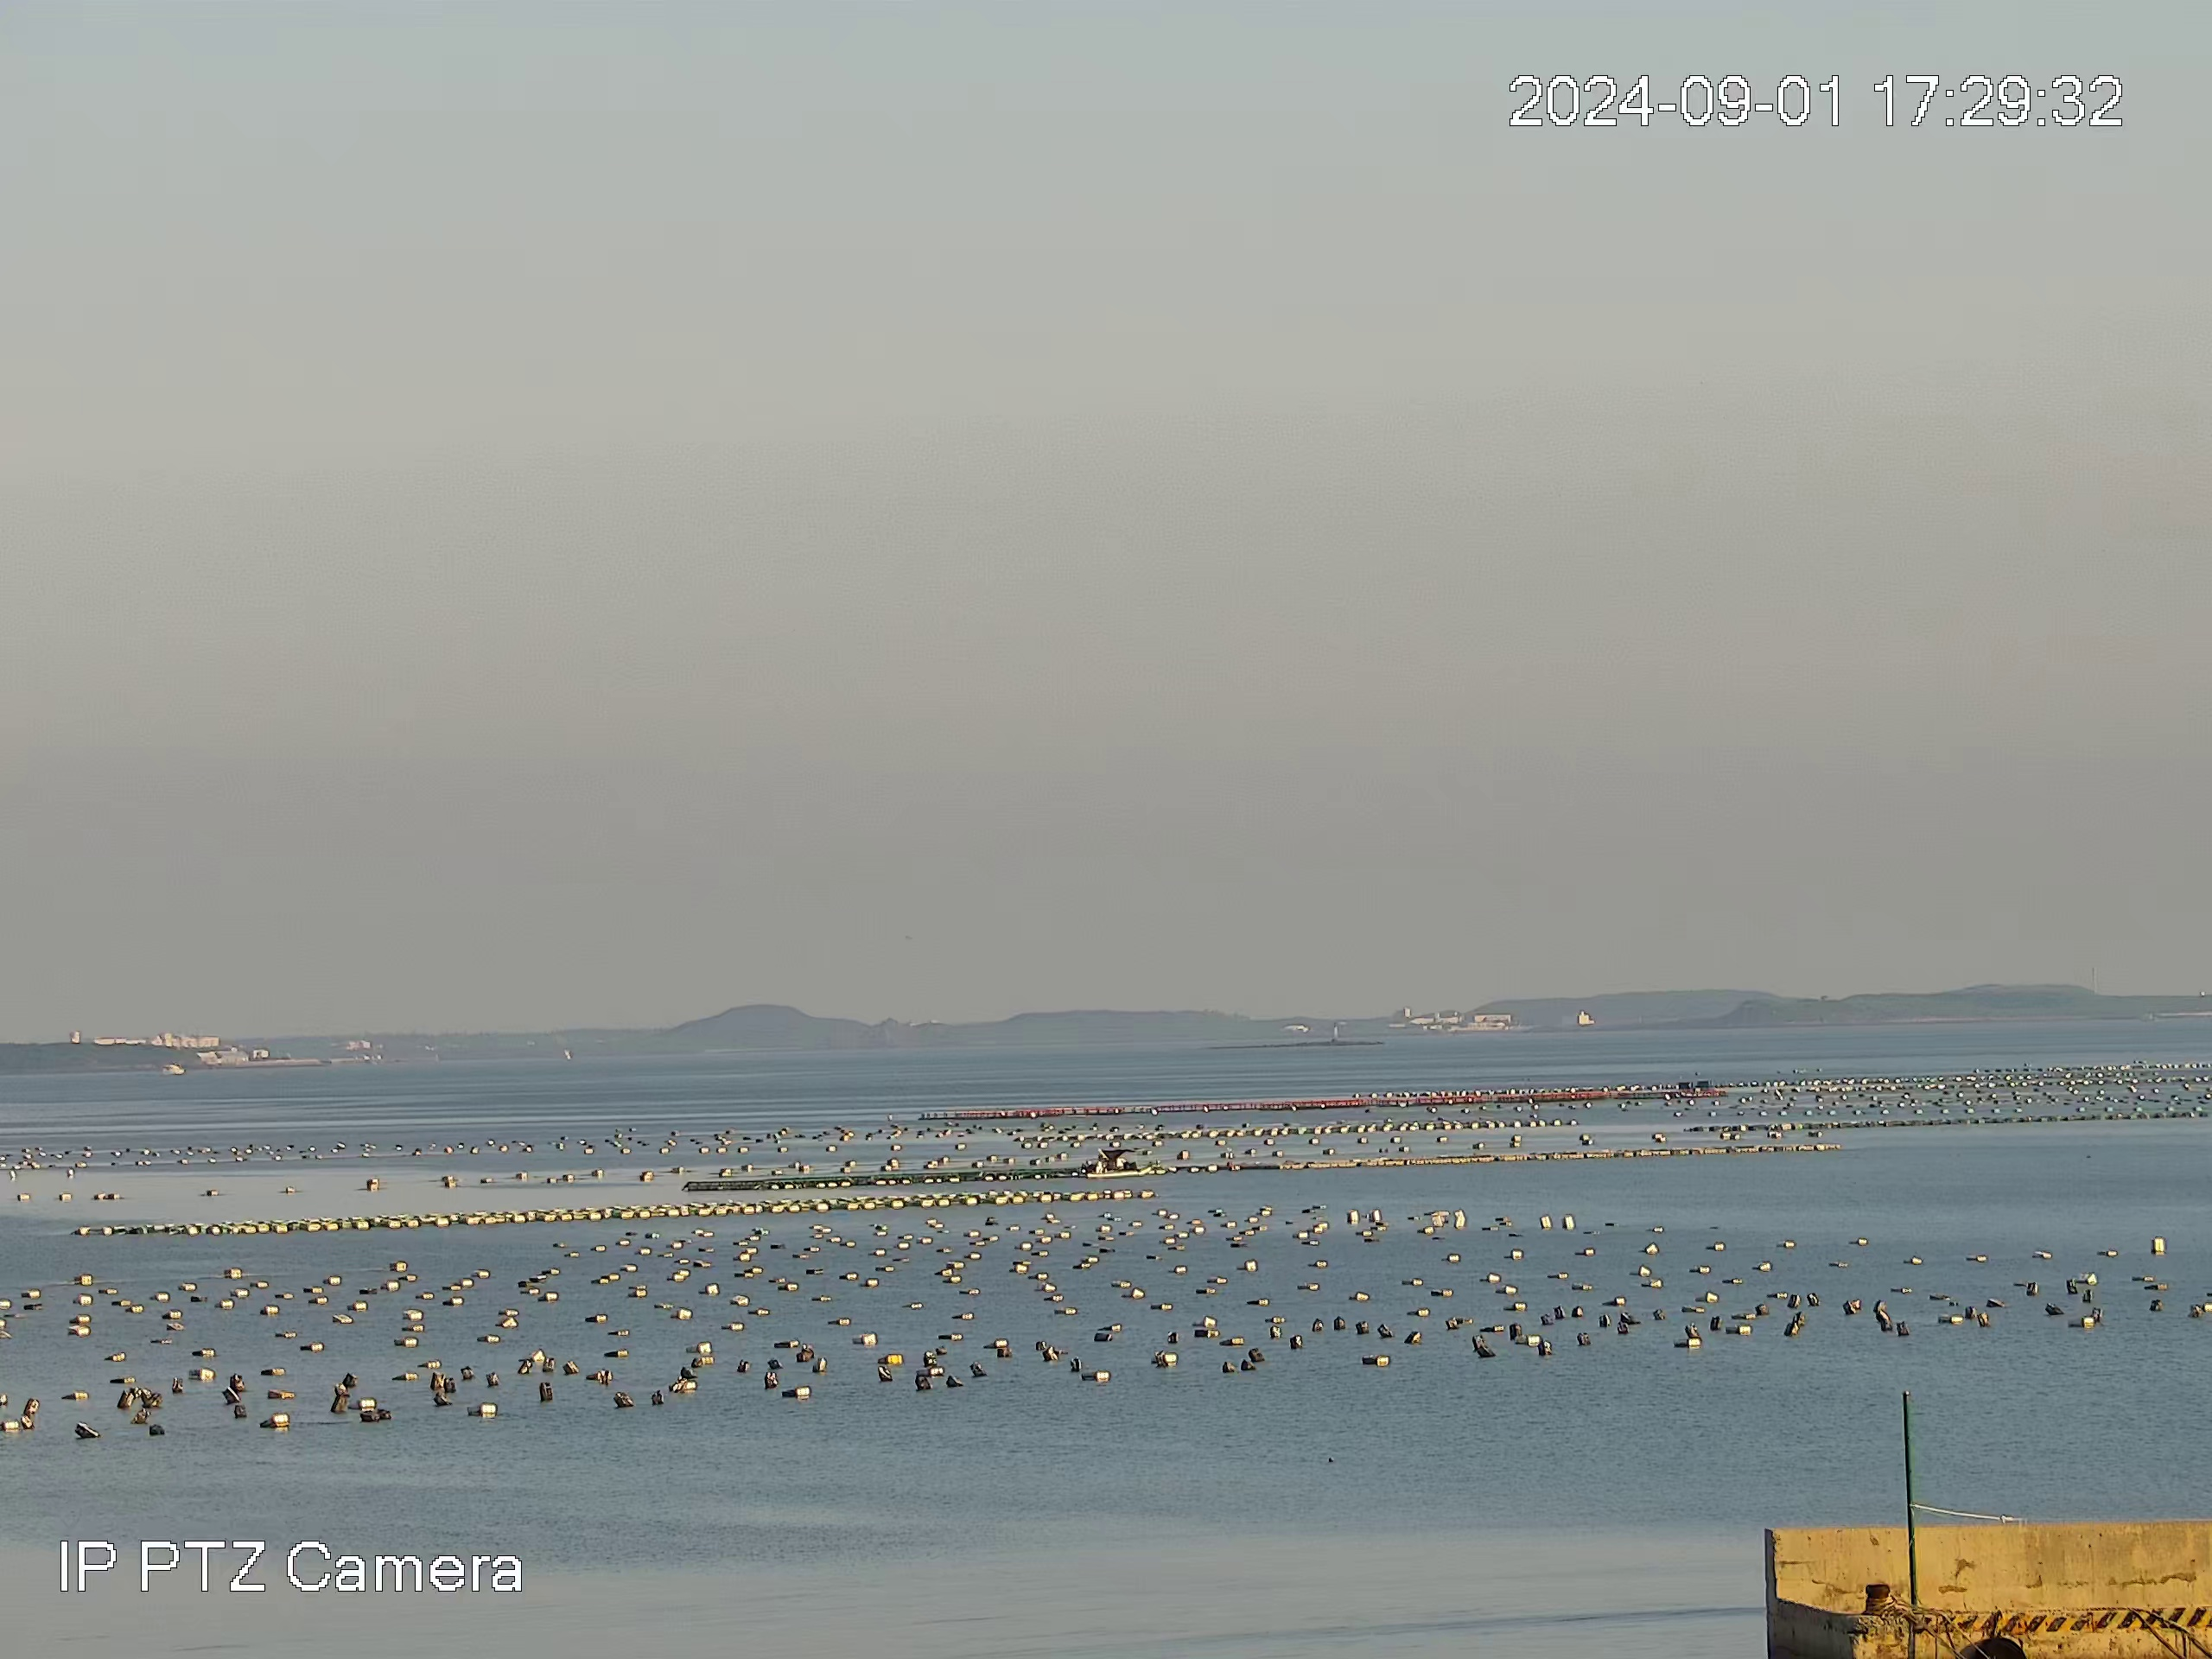boat: (1088, 1145, 1155, 1178)
